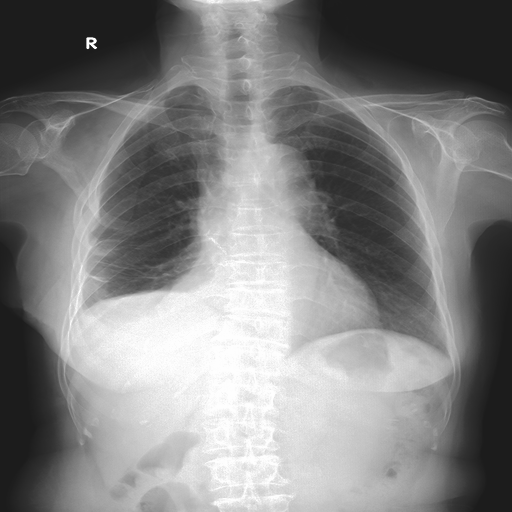Consolidation: (268, 145, 315, 197)
Nodule/Mass: (178, 262, 384, 329)
Other lesion: (79, 291, 200, 359)
Pleural effusion: (74, 284, 236, 348)
Pneumothorax: (87, 259, 173, 288), (101, 238, 141, 250)
